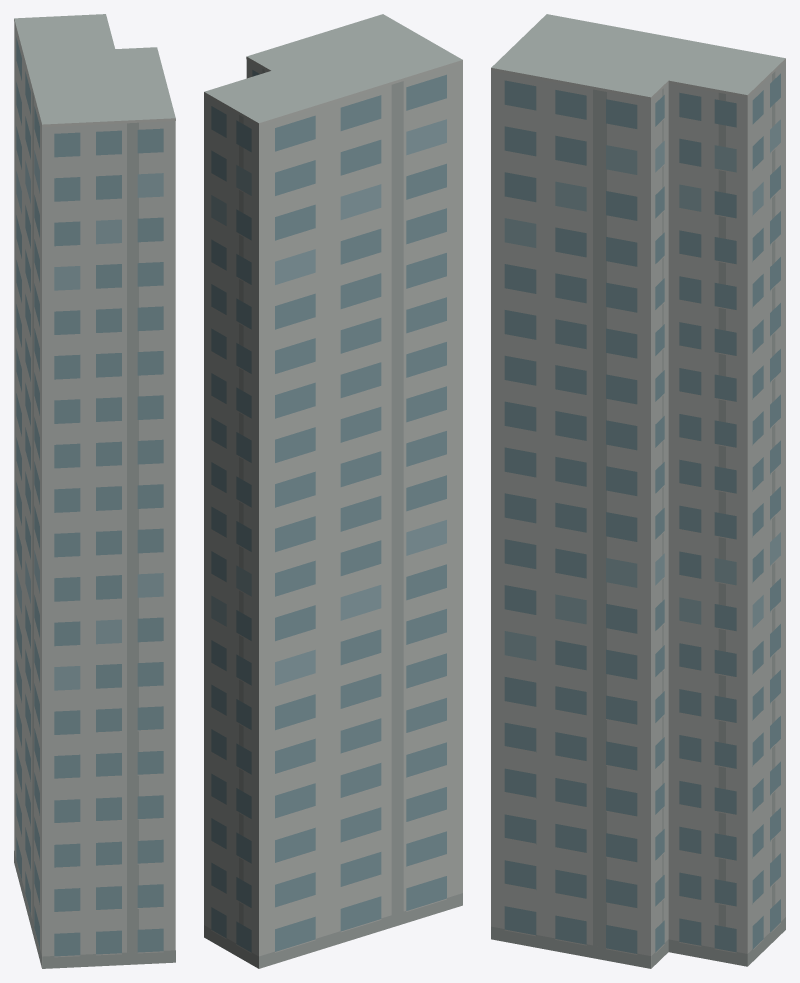
Rendered from residential-928a365f-102c-40fe-b722-7a199f8602cf.glb.
3 renders of one model, left to right at view 1: azimuth 30°, elevation 25°; view 2: azimuth 150°, elevation 25°; view 3: azimuth 270°, elevation 25°, orthographic. The views are drawn at different scales.
Parts seen in each view (by area): view 1: residential-928a365f-102c-40fe-b722-7a199f8602cf.tmp; view 2: residential-928a365f-102c-40fe-b722-7a199f8602cf.tmp; view 3: residential-928a365f-102c-40fe-b722-7a199f8602cf.tmp.
Boxes of the visible parts, x1=… form: residential-928a365f-102c-40fe-b722-7a199f8602cf.tmp: x1=14, y1=14, x2=175, y2=968; residential-928a365f-102c-40fe-b722-7a199f8602cf.tmp: x1=204, y1=14, x2=462, y2=968; residential-928a365f-102c-40fe-b722-7a199f8602cf.tmp: x1=491, y1=14, x2=785, y2=968.
Bounding box in the file's own units: 15.39 × 75 × 23.
